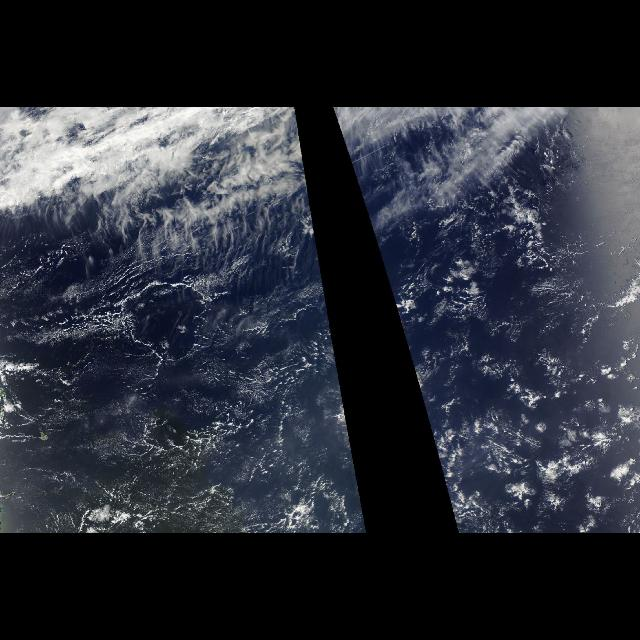Gravel: (74, 348, 360, 526)
Sugar: (70, 358, 318, 487)
